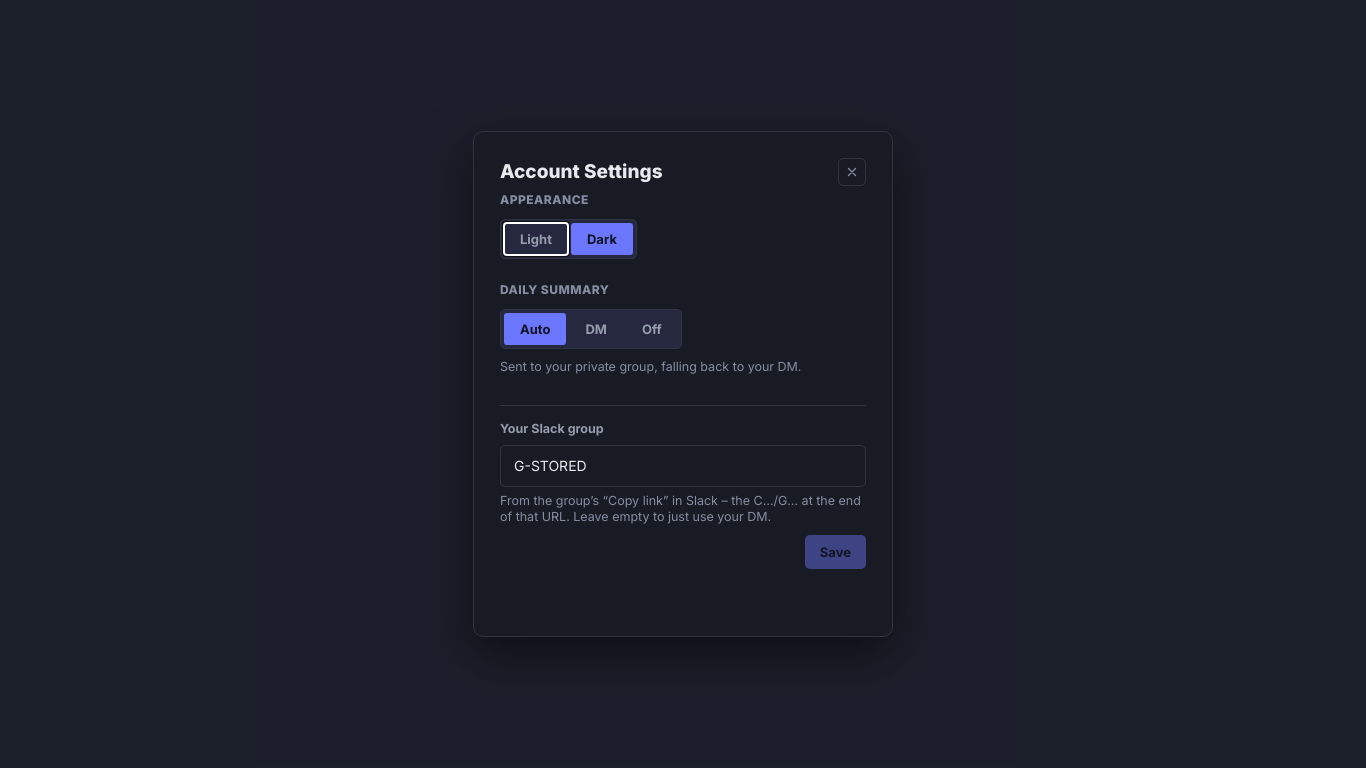
Test: AccountSettingsModal › should save each option immediately, with no separate save step, round-tripping the stored Slack group id
Expected: the button "Auto" is shown, [504, 313, 566, 345]
Click the button "Off".
click(652, 329)  # box [626, 313, 678, 345]
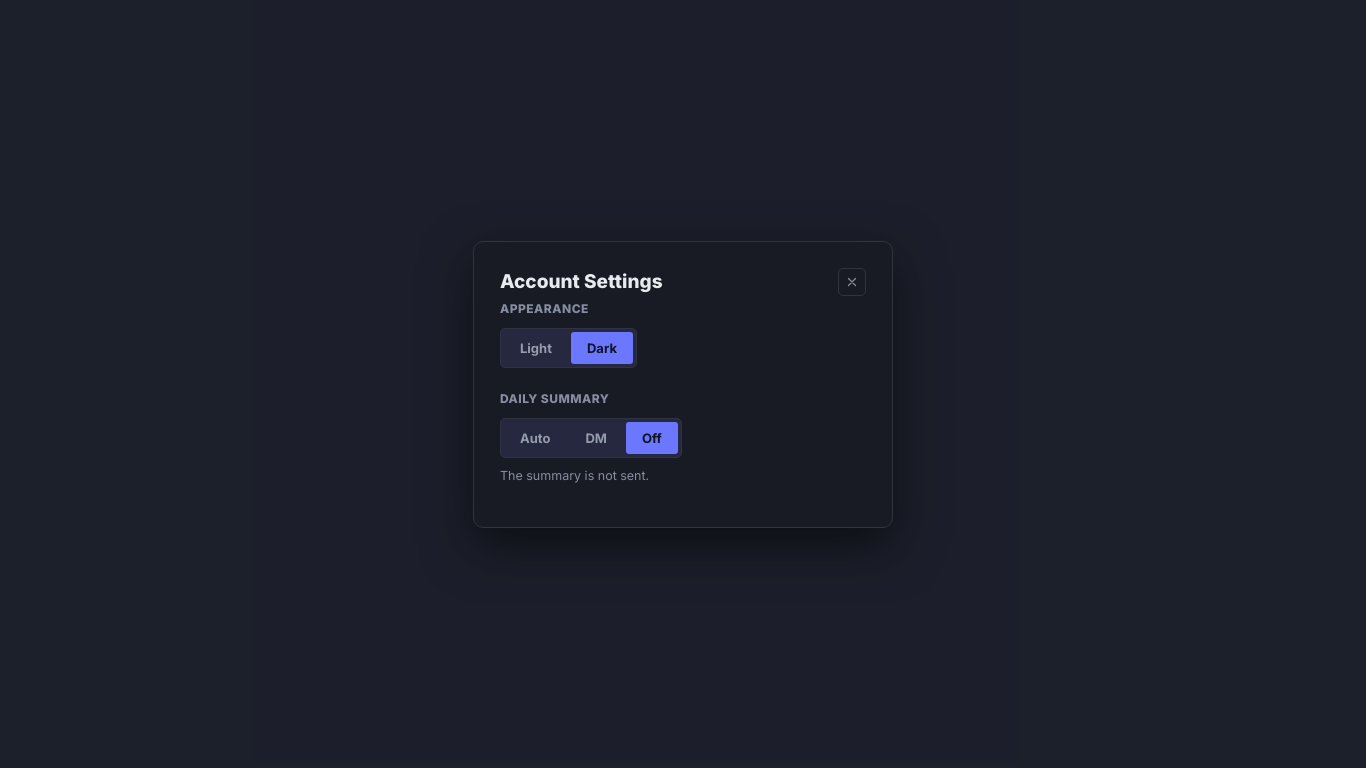
Result: the button "Save" is gone
